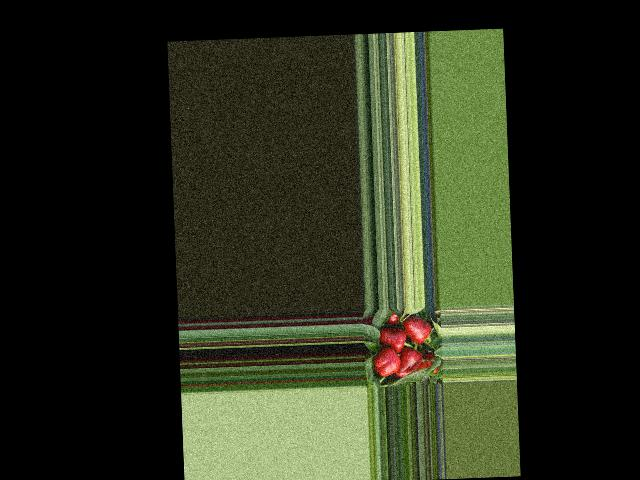bell_pepper: (373, 341, 401, 379)
